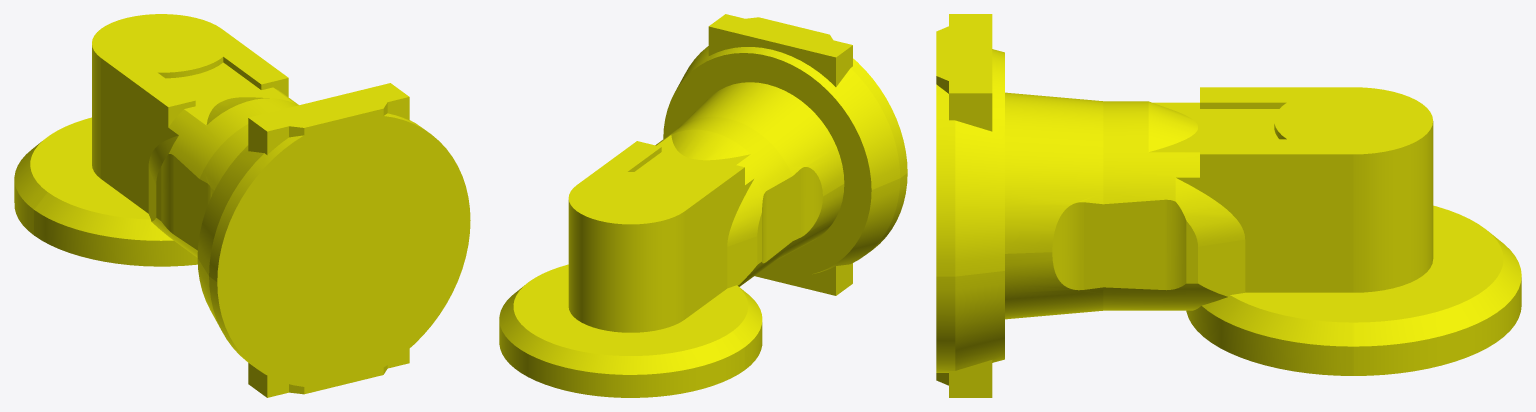
3 renders of one model, left to right at view 1: azimuth 30°, elevation 25°; view 2: azimuth 150°, elevation 25°; view 3: azimuth 270°, elevation 25°, orthographic. The views are drawn at different scales.
Parts seen in each view (by area): view 1: Mesh_0; view 2: Mesh_0; view 3: Mesh_0.
Part boxes in pixels (left/top/right/bottom): Mesh_0: left=14, top=14, right=470, bottom=397; Mesh_0: left=499, top=14, right=907, bottom=397; Mesh_0: left=936, top=14, right=1521, bottom=397.
Bounding box in the file's own units: 0.186 × 0.186 × 0.324.
